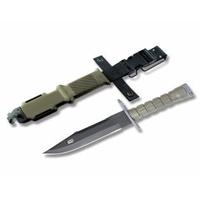knife: (33, 82, 196, 157)
